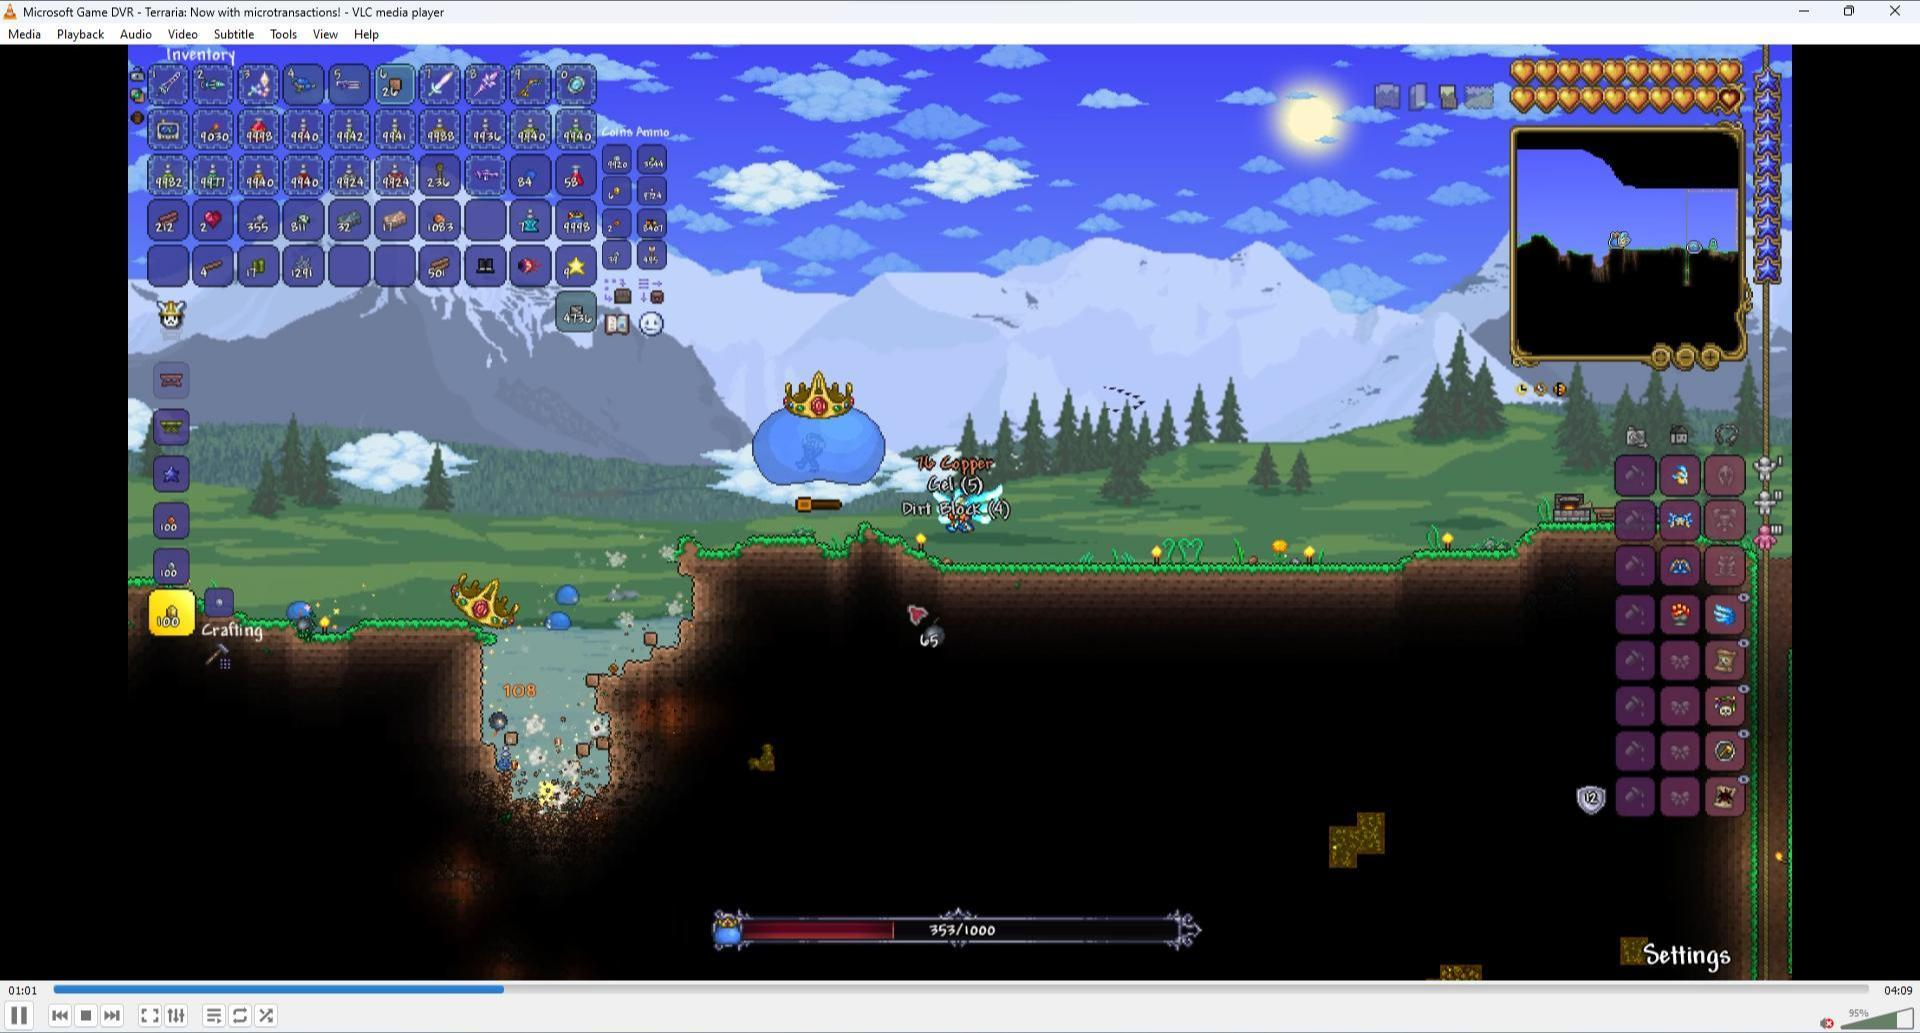slime: (284, 597, 317, 622), (545, 609, 580, 634), (553, 581, 582, 609)
